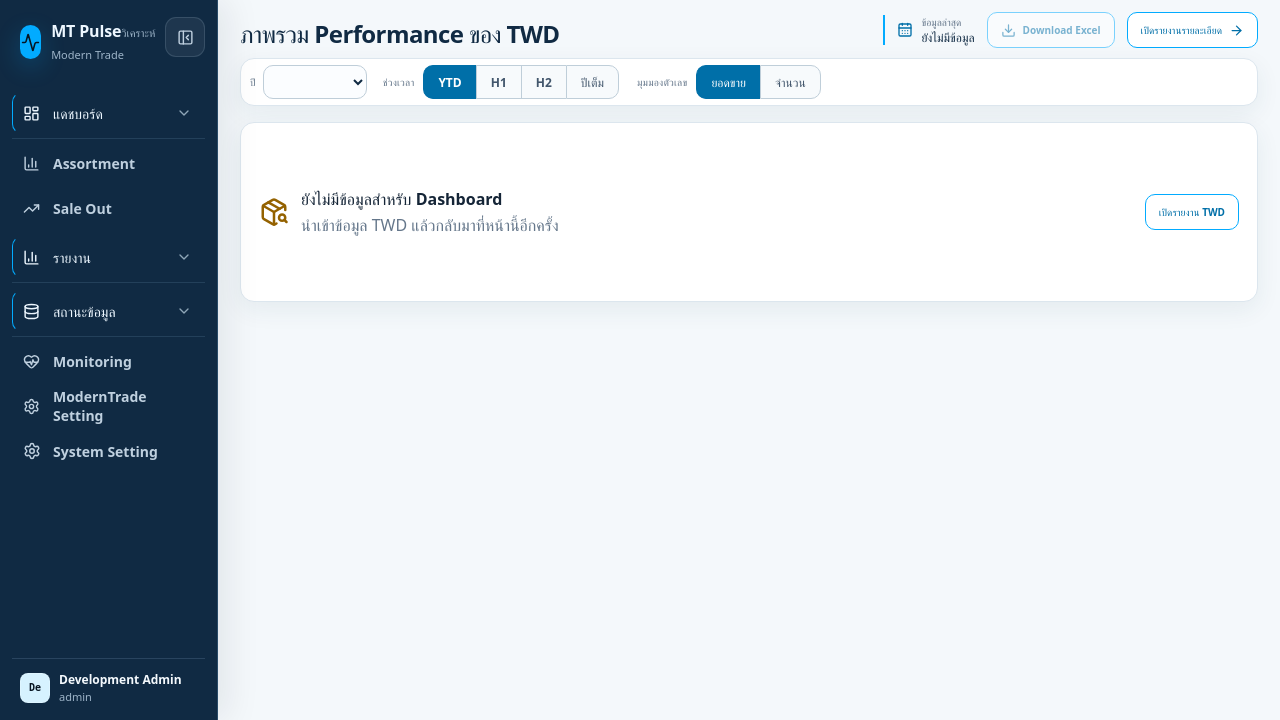
Test: App navigation › uses the compact Import-owned header without rendering the duplicate shell header
Click the button "สถานะข้อมูล": (108, 311) [12,290,205,332]
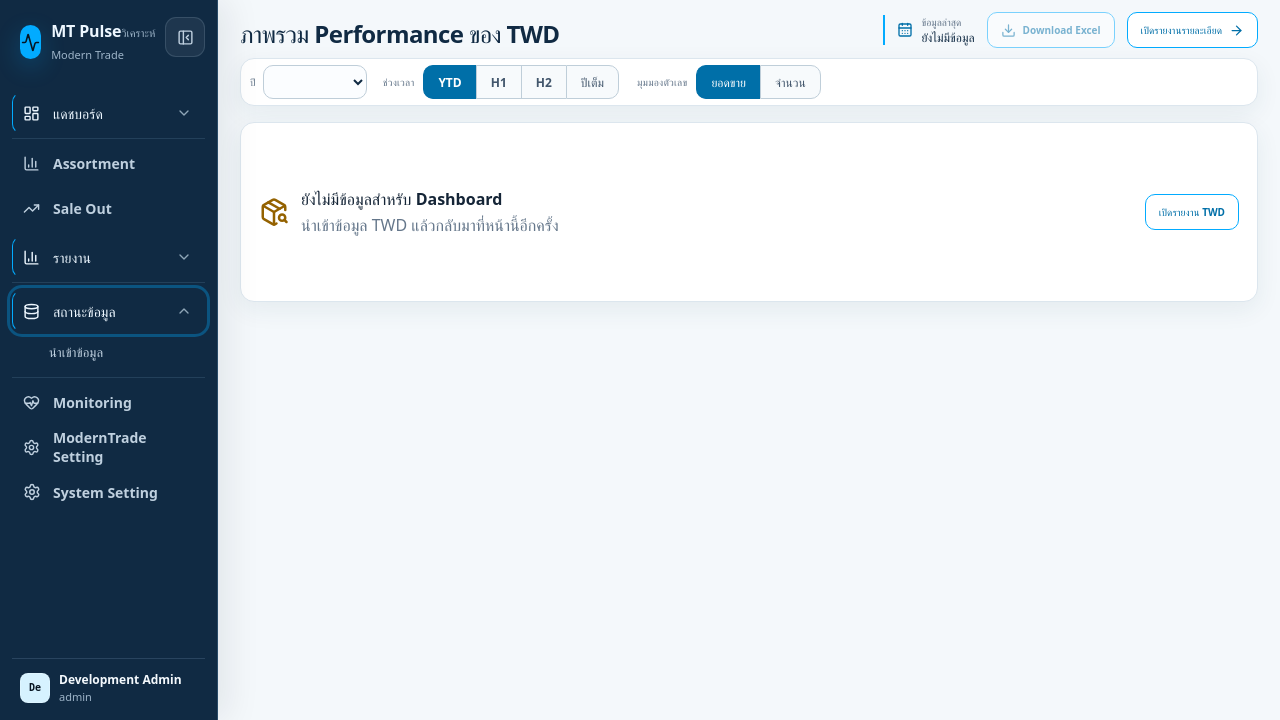
Click the button with aria-label "สถานะข้อมูล นำเข้าข้อมูล": (120, 352) [36,334,205,370]
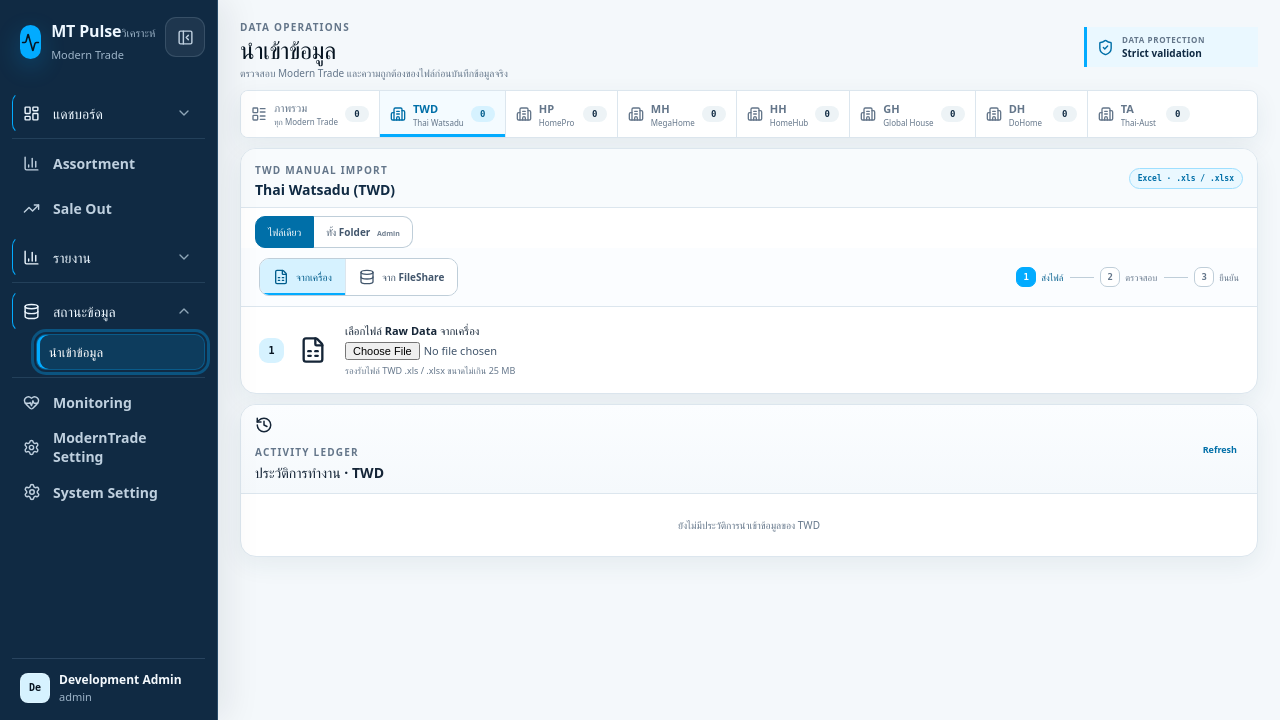
Expected: the heading "นำเข้าข้อมูล" is shown, [240,33,336,66]
